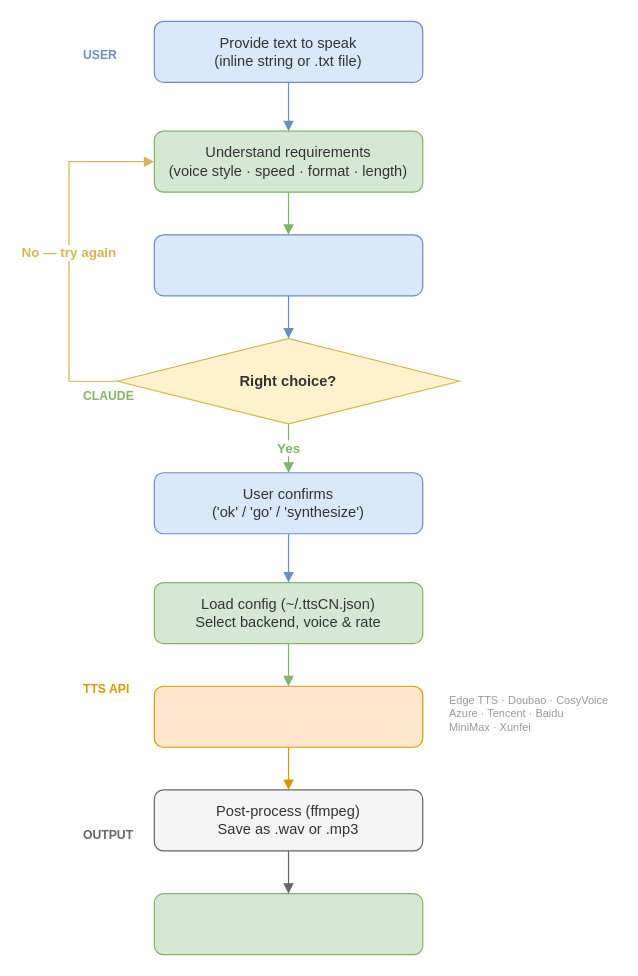
The diagram is 638 pixels wide and 976 high, and some of its shapes have lost their labels. Each missing label, with the centre of its shape:
"Recommend backend & voice (match use case → best platform)" belongs at (288,265).
"Synthesize via TTS API (8 backends / 800+ voices)" belongs at (288,716).
"✓ Audio generated & saved" belongs at (288,923).
